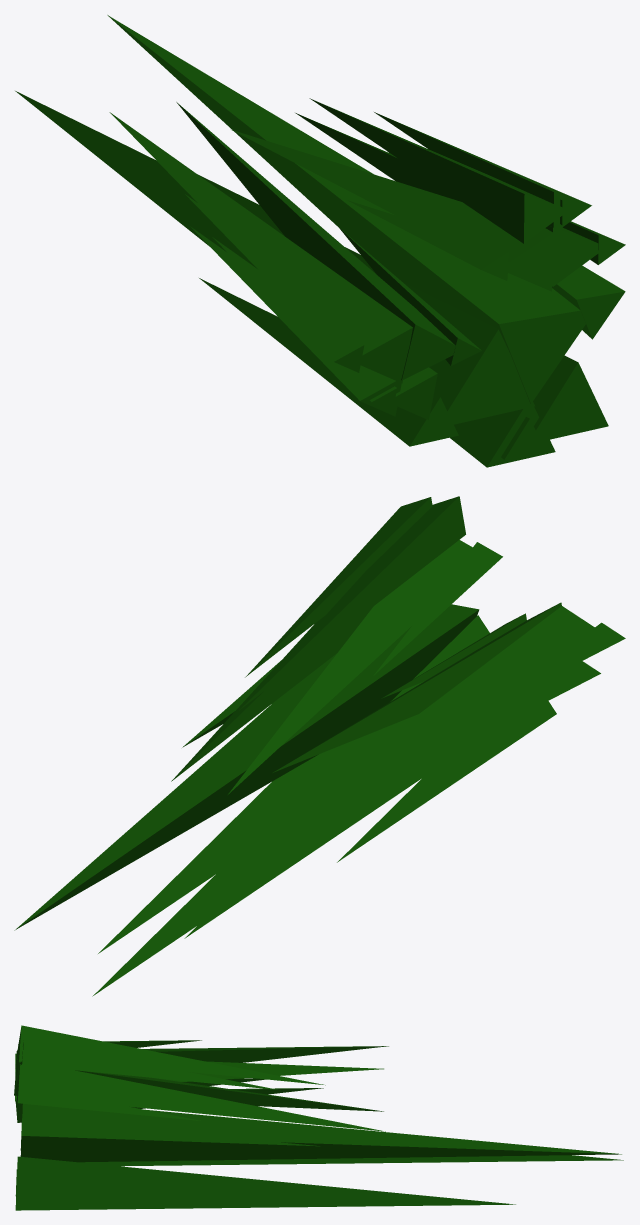
Rendered from trawa2now1.fbx.
3 renders of one model, top to bottom at view 1: azimuth 30°, elevation 25°; view 2: azimuth 150°, elevation 25°; view 3: azimuth 270°, elevation 25°, orthographic. The views are drawn at different scales.
Visible parts, largest first — view 1: Cone; view 2: Cone; view 3: Cone.
Part boxes in pixels (x1=…): Cone: x1=15, y1=15, x2=625, y2=467; Cone: x1=14, y1=496, x2=625, y2=996; Cone: x1=14, y1=1025, x2=623, y2=1210.
Size of the model in its own units: 157 by 141 by 442.
